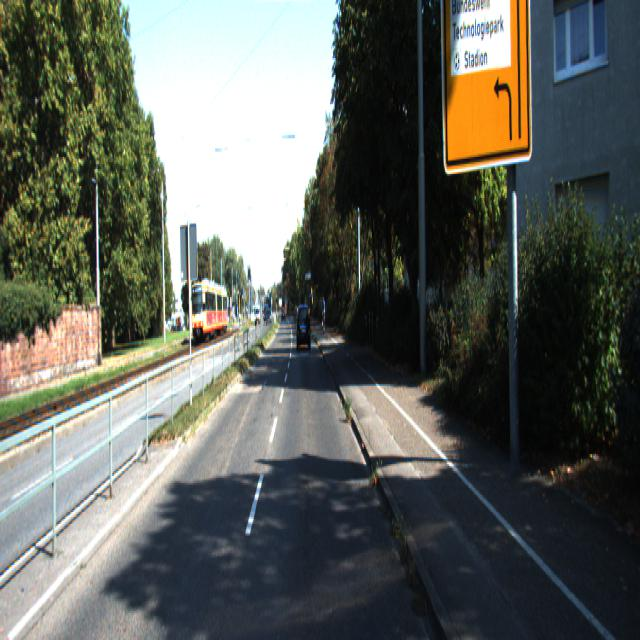Car: (191, 280, 229, 345), (297, 304, 312, 352)
